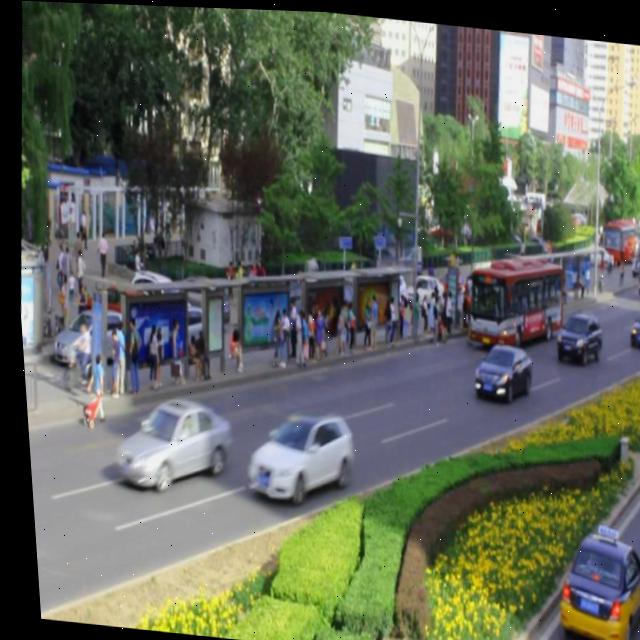car: (103, 388, 229, 496), (235, 399, 352, 503), (465, 337, 528, 401), (548, 305, 599, 360), (621, 303, 640, 346)
van: (453, 248, 559, 354)
